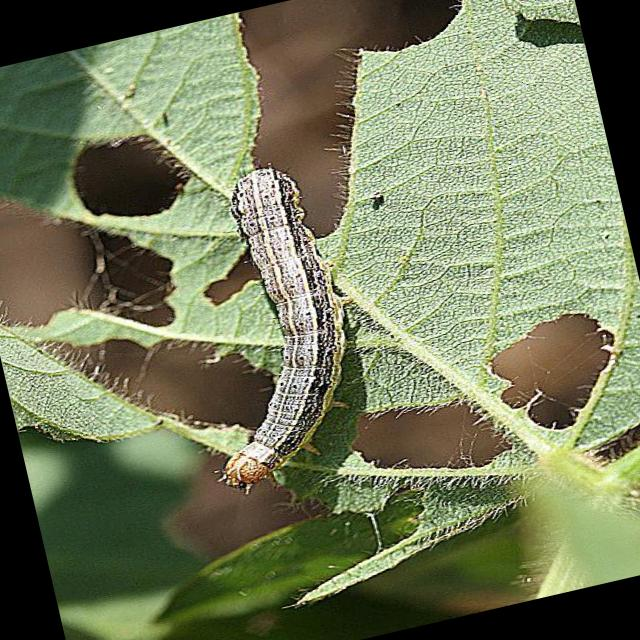Armyworm: (129, 147, 438, 524)
Armyworm_damage: (18, 271, 303, 483), (464, 287, 640, 464), (51, 110, 220, 247)
